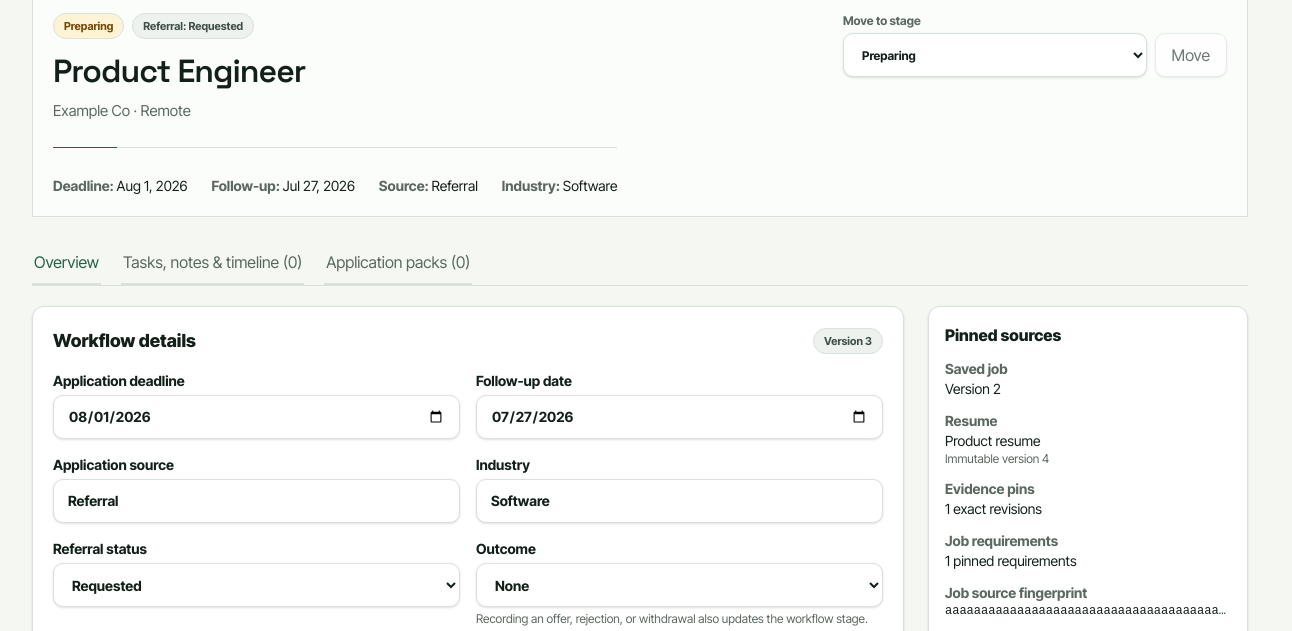
Application detail workflow › synchronizes the stage control when an outcome changes the stage
The width and height of the screenshot is (1292, 631).
Expected: the heading "Product Engineer" is shown, [53,51,305,91]
Select "Offer" in the dropdown labelled "Outcome": (680, 585) [476,563,883,607]
(page scrolled)
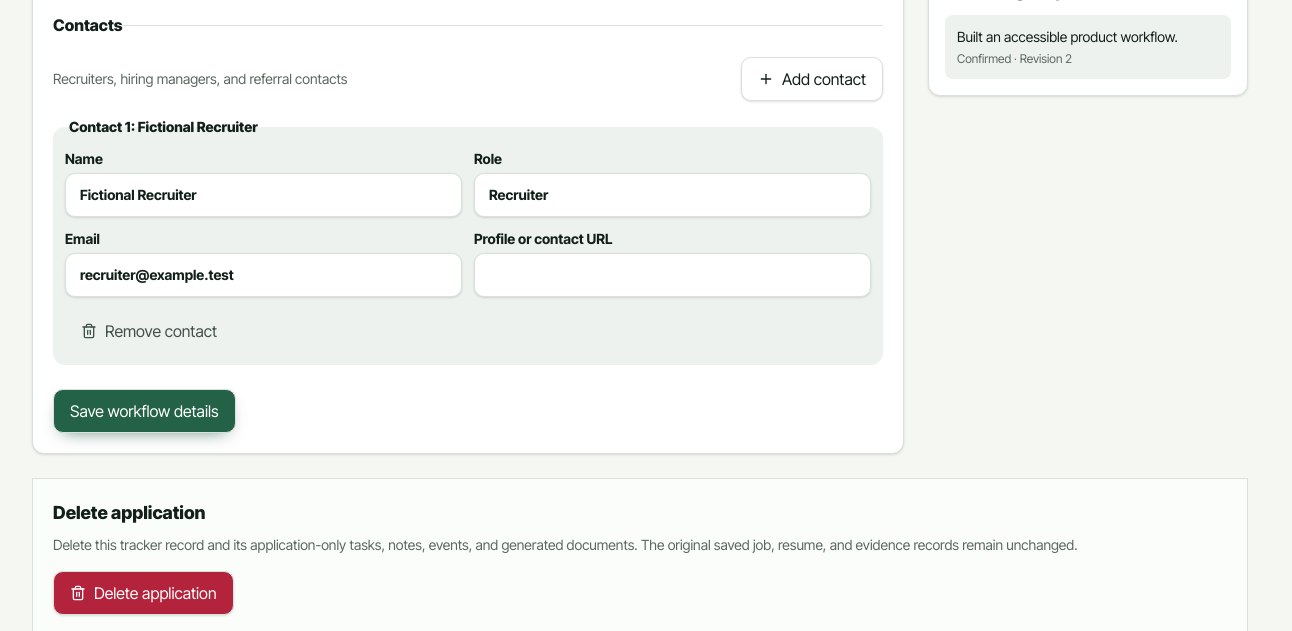
Click the button "Save workflow details": (144, 411) [53,389,236,433]
(page scrolled)
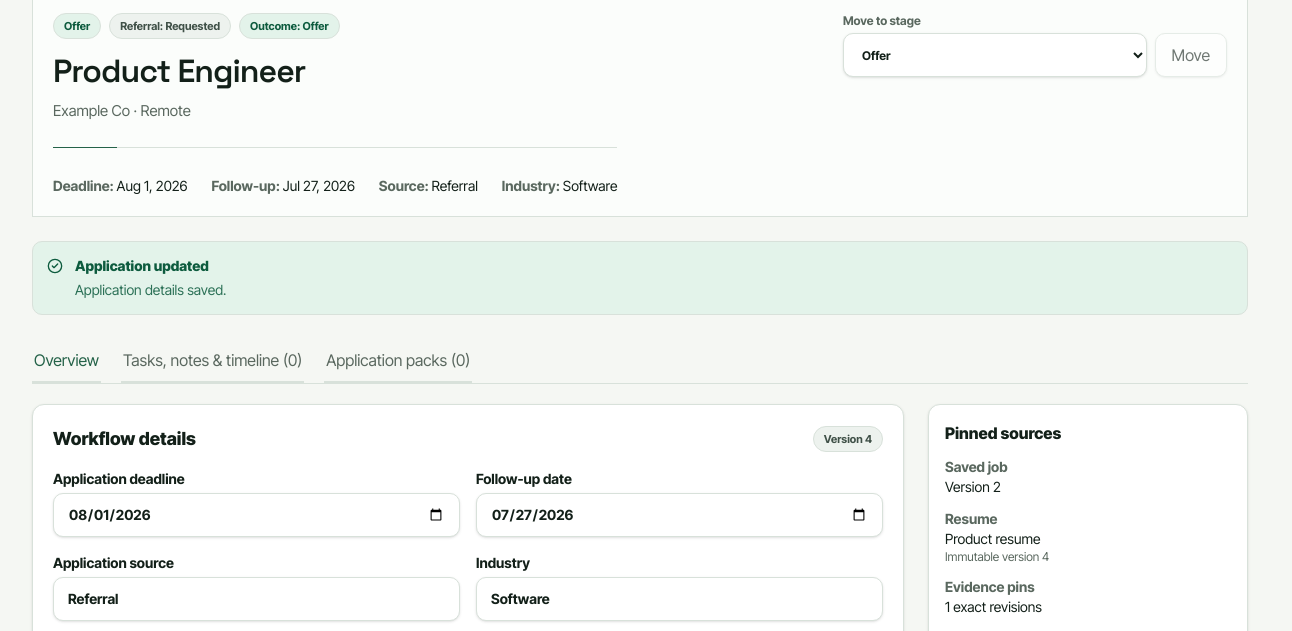
Expected: the button "Move" is disabled, [1155,33,1227,77]
Result: the text "Application details saved." is shown at [75,280,226,300]
Result: the dropdown labelled "Move to stage" shows "Offer" at [843,33,1147,77]
